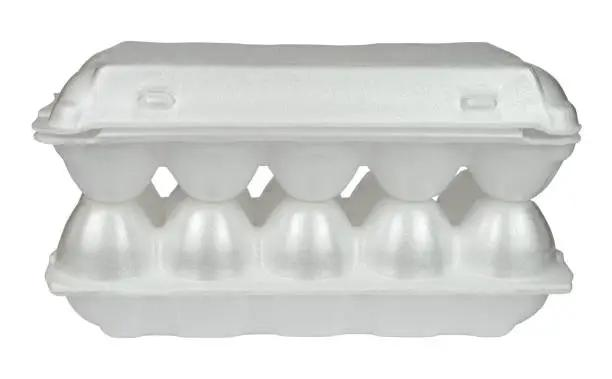glass: (34, 39, 581, 201), (45, 197, 578, 339)
